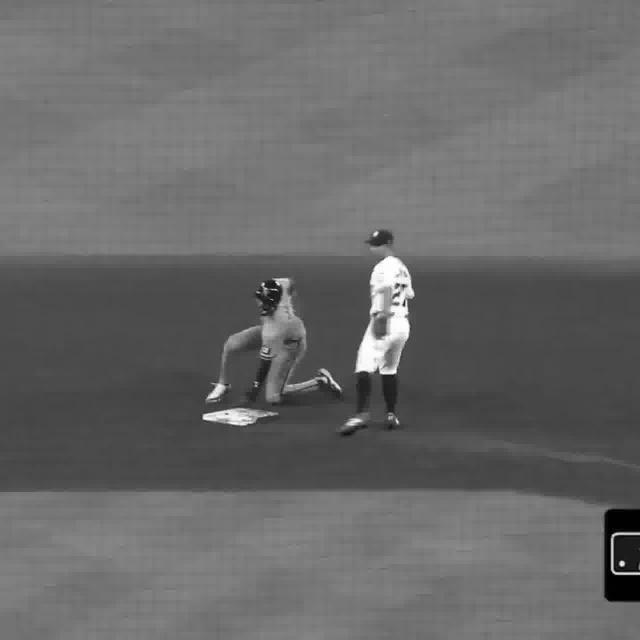base: (203, 409, 280, 426)
baseball_glove: (370, 313, 389, 342)
shoe: (318, 367, 345, 396), (336, 415, 369, 437), (208, 381, 232, 404), (391, 418, 403, 428)
